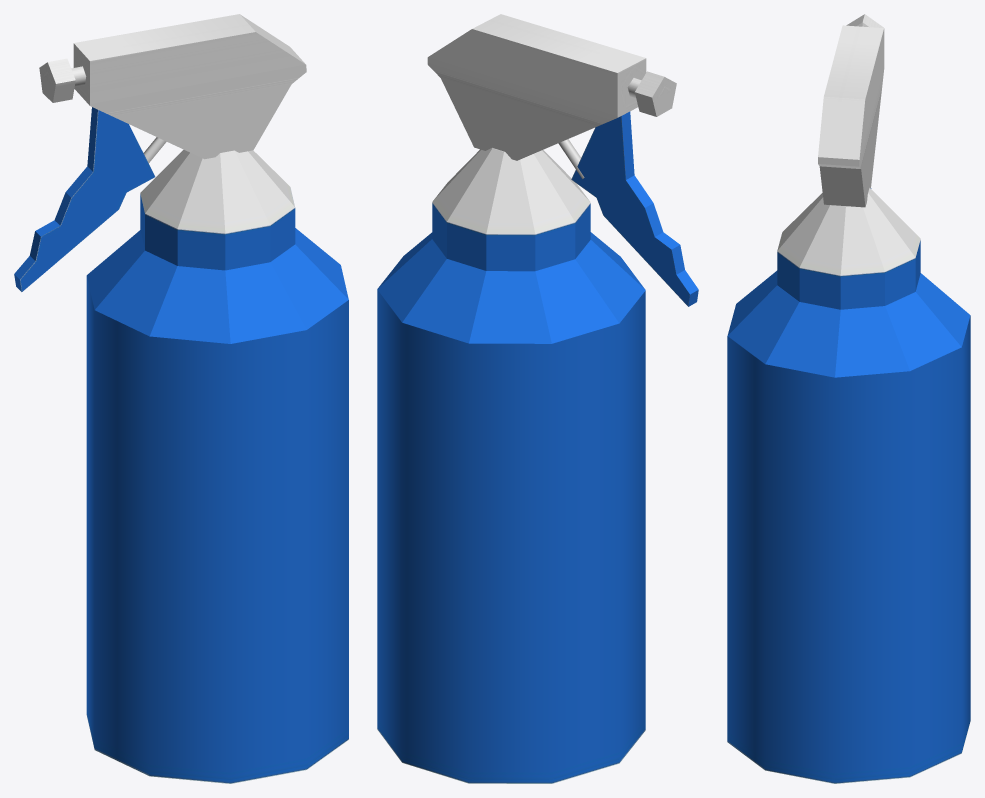
Rendered from botol_spray_Alc.FBX.
The picture shows the model from 3 angles, left to right: view 1: azimuth 30°, elevation 25°; view 2: azimuth 150°, elevation 25°; view 3: azimuth 270°, elevation 25°; orthographic projection. The views are drawn at different scales.
Visible parts, largest first — view 1: SprayBottle_body, Spray bottle_clicker; view 2: SprayBottle_body, Spray bottle_clicker; view 3: SprayBottle_body.
Part boxes in pixels (x1,y1,x2,y2): SprayBottle_body: (39,14,348,783); Spray bottle_clicker: (14,107,155,291); SprayBottle_body: (377,14,676,783); Spray bottle_clicker: (571,111,698,306); SprayBottle_body: (727,14,970,783).
Bounding box in the file's own units: 5.6 × 12.18 × 4.14.
2 materials, 2 textured.
